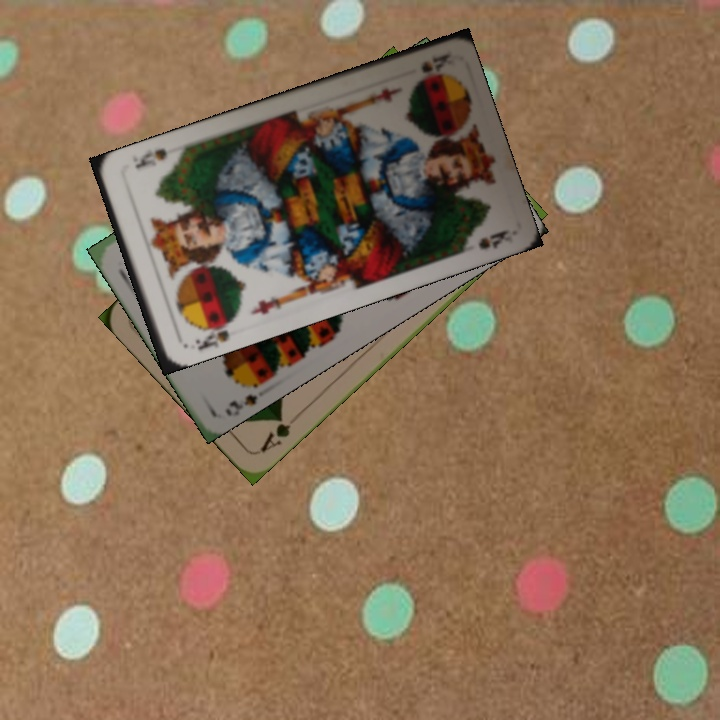GA: (256, 411, 293, 455)
S9: (221, 372, 268, 419)
SK: (191, 315, 234, 353), (417, 50, 453, 76)
